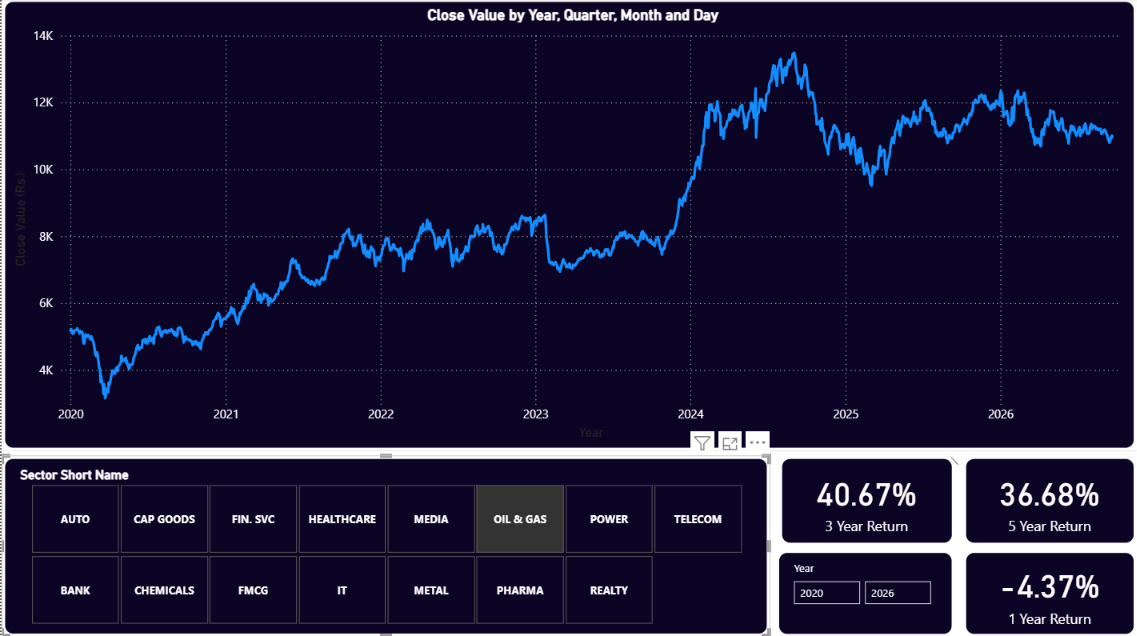

This screenshot's page, from the dashboard's own definition file:
{"tool":"powerbi","page":{"name":"Page 2","canvas":[1280,720],"ordinal":1},"visuals":[{"type":"lineChart","title":" Close Value by Year, Quarter, Month and Day","fields":{"Category":["Date Table.Date.Variation.Date Hierarchy.Year","Date Table.Date.Variation.Date Hierarchy.Quarter","Date Table.Date.Variation.Date Hierarchy.Month","Date Table.Date.Variation.Date Hierarchy.Day"],"Y":["Max(Combine Data.Close)"]},"box":[0,0,1280.2,510.5],"z":0},{"type":"slicer","fields":{"Values":["Combine Data.Sector Short Name"]},"box":[0,515.1,866.3,204.7],"z":1000},{"type":"slicer","fields":{"Values":["Date Table.Year"]},"box":[872.1,620.9,202.3,98.8],"z":1001},{"type":"card","fields":{"Values":["Combine Data.3 Year Return"]},"box":[875.6,514.5,198.8,102.3],"z":1002},{"type":"card","fields":{"Values":["Combine Data.5 Year Return"]},"box":[1083.7,514.5,196.5,102.3],"z":1003},{"type":"card","fields":{"Values":["Combine Data.1 Year Return"]},"box":[1083.7,620.9,196.5,98.8],"z":1004}]}

Visuals, with their boxes in screenshot pixels (x1, y1, x2, y2), scaled from the page's 1280x720 canvas onto the 1137x636 screenshot:
" Close Value by Year, Quarter, Month and Day" lineChart: [x1=0, y1=0, x2=1136, y2=451]
slicer - Combine Data.Sector Short Name: [x1=0, y1=455, x2=770, y2=635]
slicer - Date Table.Year: [x1=775, y1=548, x2=954, y2=635]
card - Combine Data.3 Year Return: [x1=778, y1=454, x2=954, y2=545]
card - Combine Data.5 Year Return: [x1=963, y1=454, x2=1136, y2=545]
card - Combine Data.1 Year Return: [x1=963, y1=548, x2=1136, y2=635]
